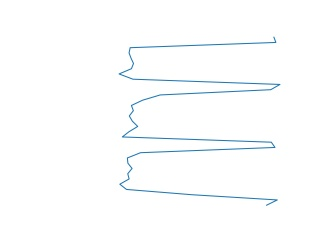majorRiverChannelBar: (116, 35, 283, 206)
